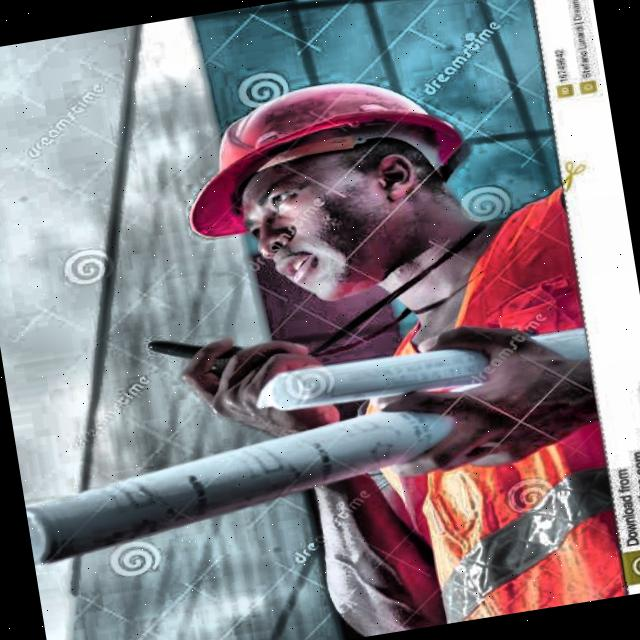helmet: (140, 38, 518, 329)
